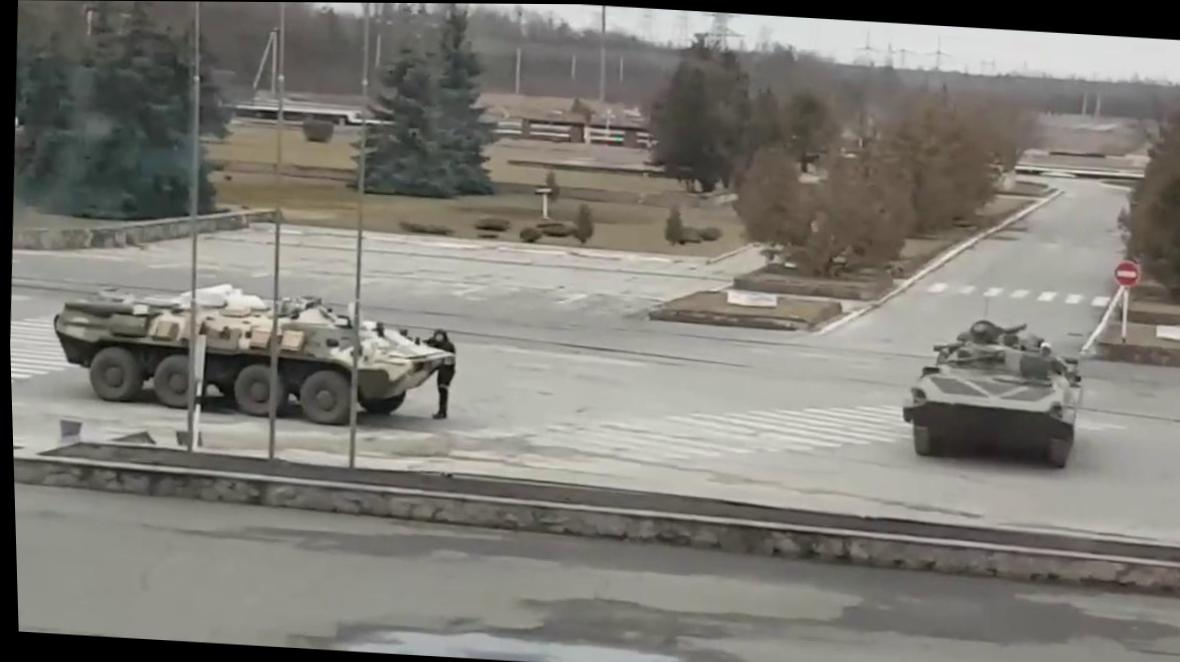person: (416, 322, 462, 428)
tank: (46, 273, 454, 428), (900, 317, 1086, 473)
